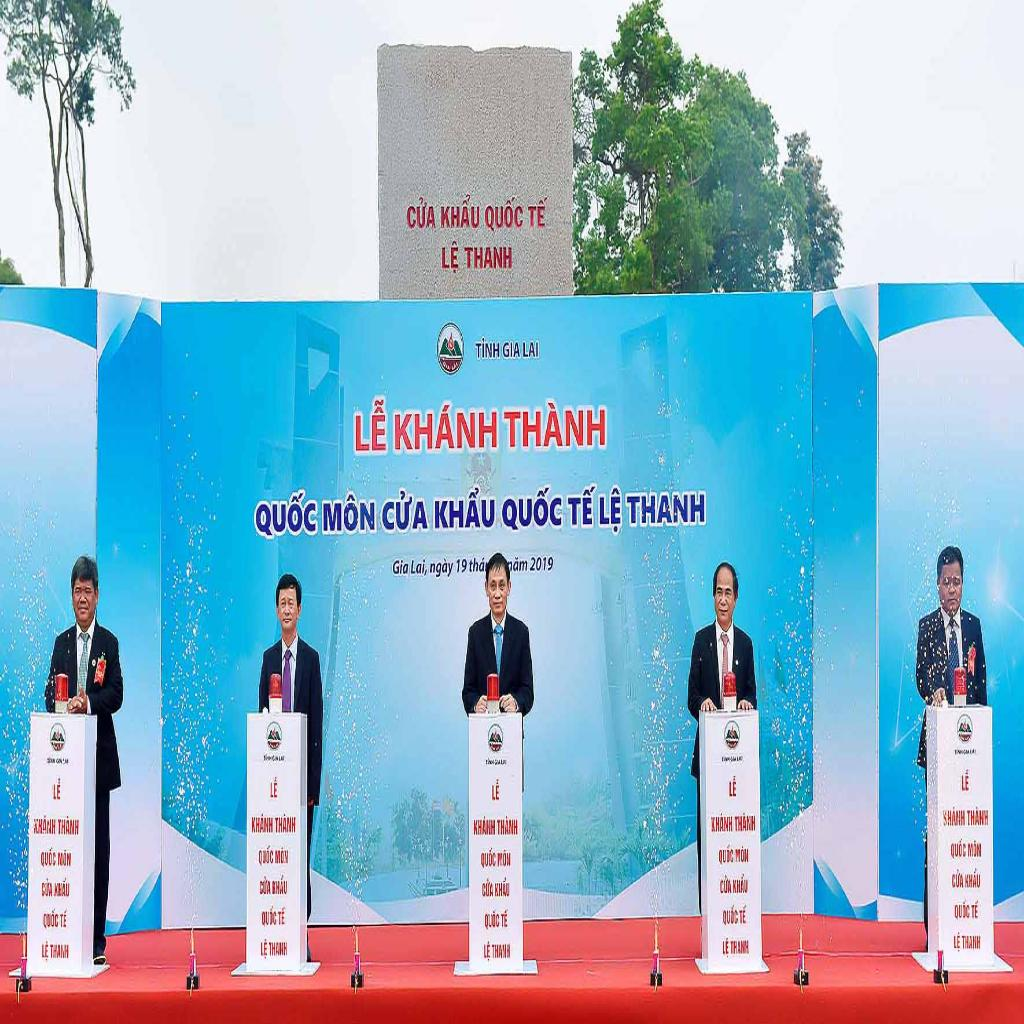text: (392, 397, 500, 455), (502, 398, 608, 452), (624, 484, 708, 532), (254, 488, 318, 542), (498, 482, 564, 533), (432, 485, 498, 533), (319, 488, 378, 538), (380, 486, 431, 535), (352, 393, 390, 458), (464, 240, 516, 274), (565, 480, 599, 532), (483, 193, 527, 233), (438, 192, 480, 231), (596, 482, 624, 538), (402, 192, 437, 231), (527, 193, 550, 230), (440, 237, 461, 277), (474, 336, 501, 363), (428, 556, 454, 581), (58, 810, 80, 839), (710, 811, 734, 837), (32, 814, 57, 838), (472, 813, 496, 838), (529, 553, 556, 575), (250, 812, 274, 836), (942, 806, 966, 830), (966, 805, 990, 829), (496, 814, 519, 838), (734, 810, 757, 834), (275, 812, 297, 836), (501, 336, 521, 361), (42, 906, 60, 932), (468, 554, 488, 576), (50, 940, 70, 962), (730, 936, 750, 958), (409, 555, 428, 578), (522, 336, 540, 360), (391, 554, 409, 578), (260, 904, 278, 928), (53, 876, 71, 900), (508, 554, 528, 575), (269, 938, 289, 959), (491, 942, 512, 962), (258, 842, 274, 868), (272, 873, 288, 899), (494, 876, 511, 900), (965, 866, 982, 890), (51, 773, 64, 804), (732, 872, 749, 895), (484, 908, 500, 932), (722, 903, 738, 927), (950, 837, 966, 861), (954, 898, 970, 922), (718, 844, 735, 866), (496, 847, 512, 870), (41, 846, 56, 870), (481, 846, 496, 870), (57, 846, 73, 868), (40, 876, 54, 900), (960, 766, 972, 794), (951, 868, 965, 892), (275, 844, 290, 866), (735, 844, 750, 866), (268, 775, 280, 802), (718, 872, 732, 895), (968, 837, 982, 860), (490, 777, 502, 803), (727, 772, 738, 800), (259, 874, 272, 896), (481, 878, 494, 900), (455, 555, 468, 575), (482, 940, 492, 964), (59, 908, 69, 930), (500, 908, 510, 930), (42, 938, 50, 964), (953, 929, 961, 955), (739, 903, 748, 926), (971, 898, 980, 920), (260, 937, 268, 961), (722, 936, 730, 960), (278, 905, 286, 926), (442, 358, 452, 373), (954, 746, 964, 758), (262, 752, 272, 762), (46, 756, 56, 766), (452, 360, 460, 372), (736, 753, 744, 764), (62, 756, 70, 766), (501, 756, 507, 768), (272, 753, 279, 763), (279, 753, 286, 763), (56, 756, 63, 766), (730, 754, 737, 764), (963, 746, 970, 756), (970, 746, 977, 756), (495, 758, 501, 768)
